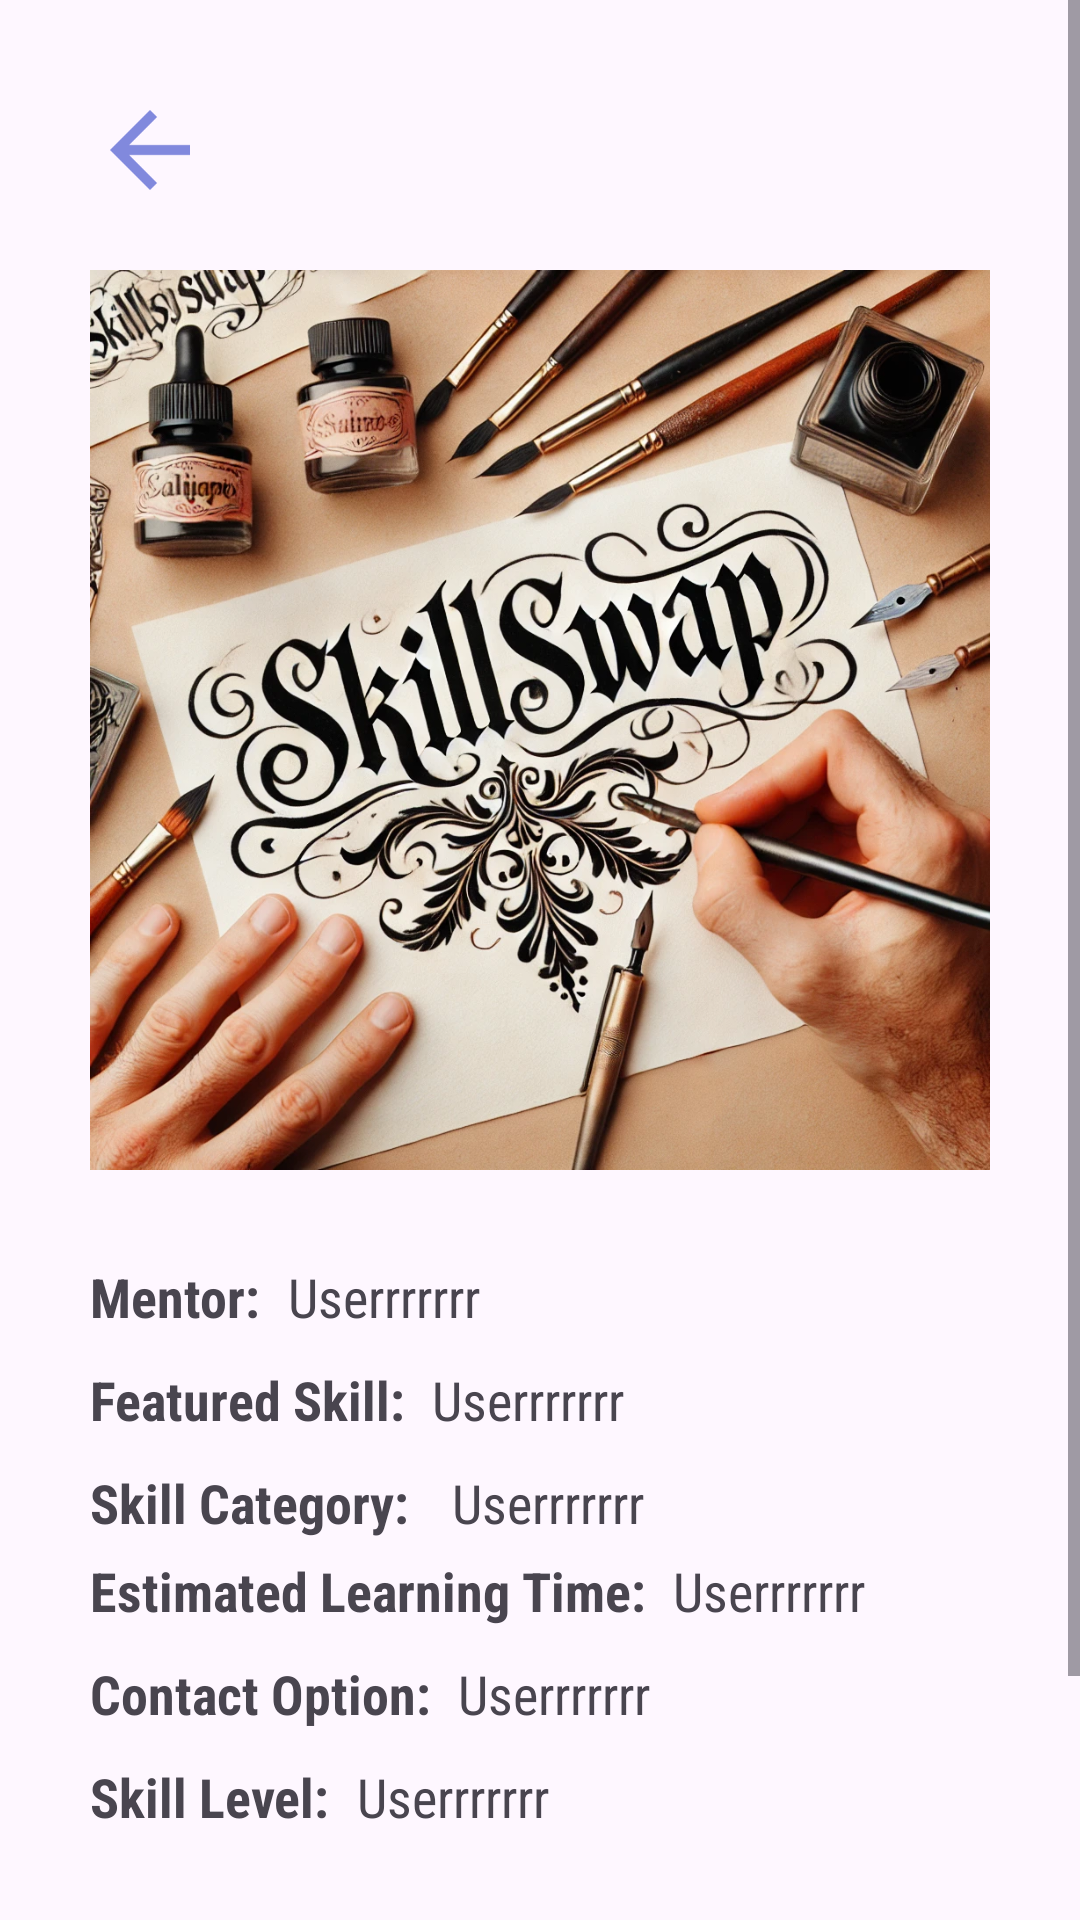

Locate icon controls on the screen. Image size 1080x1920, boxes as [x1=x1, y1=y1, x2=x2, y2=y2].
arrow back: [x1=110, y1=110, x2=190, y2=190]
